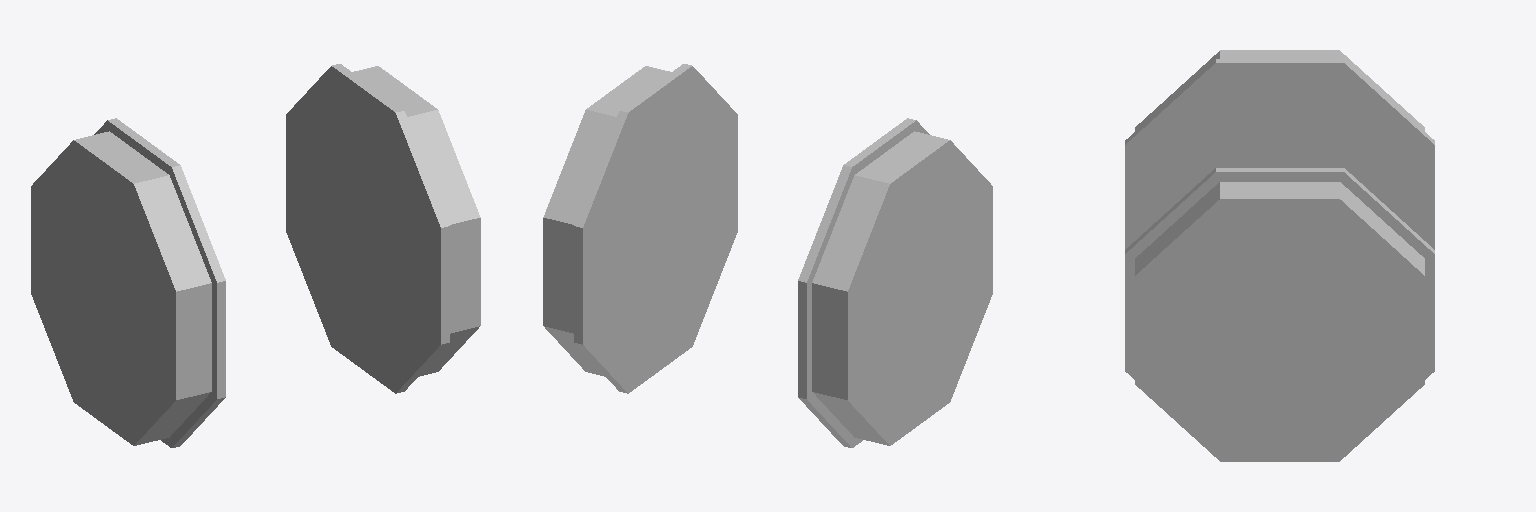
Rendered from wheel_center.obj.
3 views of the same model, side by side, from view 1: azimuth 30°, elevation 25°; view 2: azimuth 150°, elevation 25°; view 3: azimuth 270°, elevation 25° (orthographic).
Parts seen in each view (by area): view 1: semi_blind_Cube; view 2: semi_blind_Cube; view 3: semi_blind_Cube.
Part boxes in pixels (left/top/right/bottom): semi_blind_Cube: left=31, top=64, right=480, bottom=447; semi_blind_Cube: left=543, top=64, right=992, bottom=447; semi_blind_Cube: left=1125, top=50, right=1434, bottom=461.
Bounding box in the file's own units: 2.12 × 1.88 × 1.88.